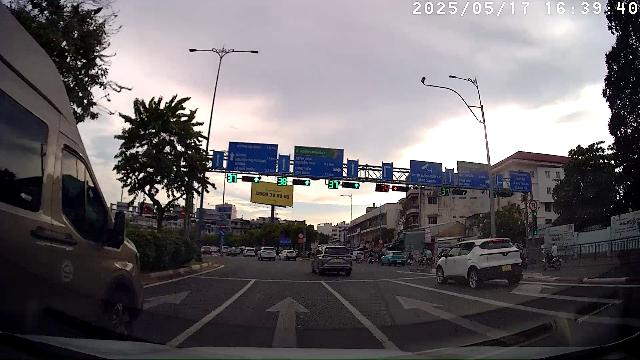124a-cam-quay-dau-xe: (529, 200, 538, 211)
